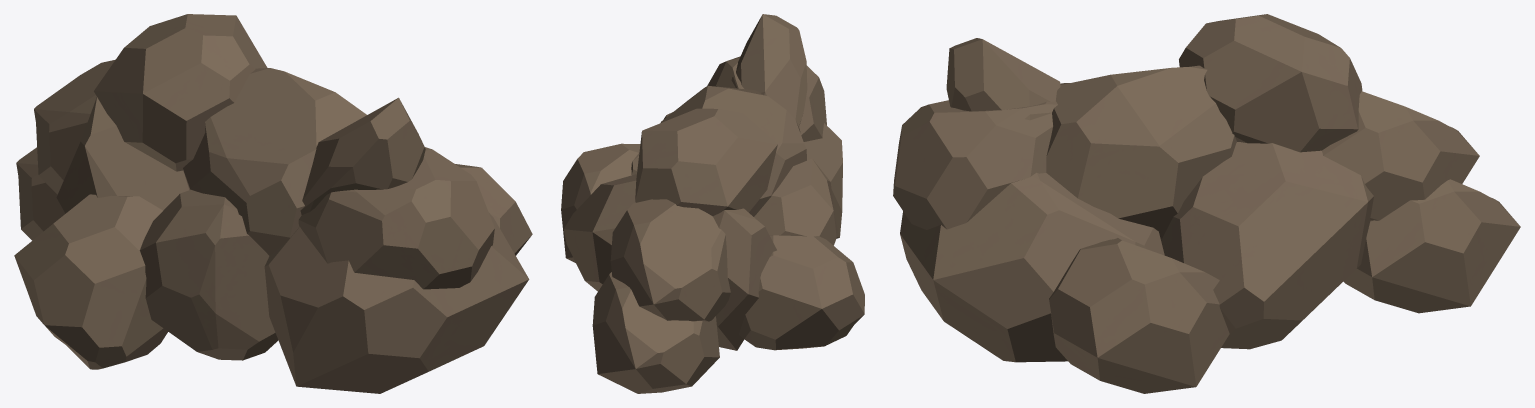
Rendered from Rock4.fbx.
3 renders of one model, left to right at view 1: azimuth 30°, elevation 25°; view 2: azimuth 150°, elevation 25°; view 3: azimuth 270°, elevation 25°, orthographic. The views are drawn at different scales.
Parts seen in each view (by area): view 1: Icosphere.003; view 2: Icosphere.003; view 3: Icosphere.003.
Part boxes in pixels (x1,y1,x2,y2): Icosphere.003: (14, 14, 532, 393); Icosphere.003: (561, 14, 864, 393); Icosphere.003: (893, 14, 1520, 393).
Size of the model in its own units: 732 by 495 by 915.
1 material, 1 textured.
